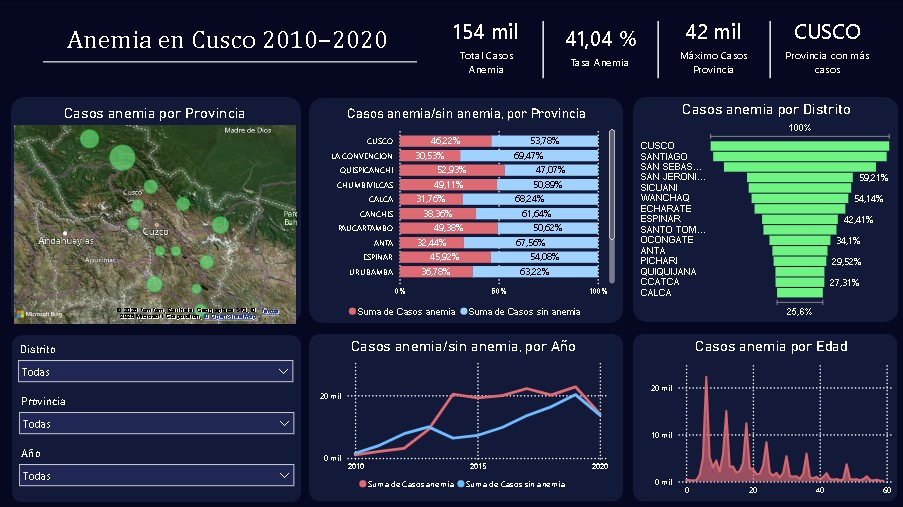

The page's visual inventory and layout, read from the dashboard file:
{"tool":"powerbi","page":{"name":"DASHBOARD ANEMIA","canvas":[1280,720],"ordinal":0},"visuals":[{"type":"shape","box":[18.6,474.3,410,237.1],"z":0},{"type":"shape","box":[898.8,473.8,375,237.5],"z":1000},{"type":"shape","box":[440,473.8,445,237.5],"z":2000},{"type":"shape","box":[898.8,137.5,376.2,318.8],"z":3000},{"type":"shape","box":[17.1,141.2,411.4,318.6],"z":4000},{"type":"shape","box":[440,138.8,445,318.8],"z":5000},{"type":"cardVisual","fields":{"Data":["Medidas.Total Casos Anemia","Medidas.Tasa Anemia","Medidas.Máximo Casos Provincia","Medidas.Provincia con más casos"]},"box":[607.1,0,652.9,130],"z":6000},{"type":"map","title":"Casos anemia por Provincia","fields":{"Category":["Dataset_AnemiaCusco.Pais","Dataset_AnemiaCusco.Departamento","Dataset_AnemiaCusco.Provincia"],"Size":["Sum(Dataset_AnemiaCusco.Casos anemia)"]},"box":[17.1,148.4,411.4,311.4],"z":7000},{"type":"lineChart","title":"Casos anemia/sin anemia, por Año","fields":{"Y":["Sum(Dataset_AnemiaCusco.Casos anemia)"],"Category":["Dataset_AnemiaCusco.Año"],"Y2":["Sum(Dataset_AnemiaCusco.Casos sin anemia)"]},"box":[447.5,486.2,421.2,217.5],"z":8000},{"type":"areaChart","title":"Casos anemia por Edad","fields":{"Category":["Dataset_AnemiaCusco.Edad"],"Y":["Sum(Dataset_AnemiaCusco.Casos anemia)"]},"box":[917.5,478.8,356.2,232.5],"z":9000},{"type":"clusteredColumnChart","title":"Casos anemia/sin anemia, por Provincia","fields":{"Category":["Dataset_AnemiaCusco.Provincia"],"Y":["Sum(Dataset_AnemiaCusco.Casos anemia)","Sum(Dataset_AnemiaCusco.Casos sin anemia)"]},"box":[447.5,148.8,430,311.2],"z":10000},{"type":"funnel","title":"Casos anemia por Distrito","fields":{"Category":["Dataset_AnemiaCusco.Distrito"],"Y":["Sum(Dataset_AnemiaCusco.Casos anemia)"]},"box":[903.8,143.8,367.5,312.5],"z":11000},{"type":"textbox","box":[90.8,28.8,471.7,65],"z":12000},{"type":"shape","box":[62.5,61.4,530,53.3],"z":13000},{"type":"shape","box":[741.4,30,60,81.4],"z":14000},{"type":"shape","box":[904.3,30,60,81.4],"z":15000},{"type":"shape","box":[1062.9,30,60,81.4],"z":16000},{"type":"slicer","fields":{"Values":["Dataset_AnemiaCusco.Distrito"]},"box":[17.5,480,410,73.8],"z":17000},{"type":"slicer","fields":{"Values":["Dataset_AnemiaCusco.Provincia"]},"box":[18.8,553.8,410,73.8],"z":18000},{"type":"slicer","fields":{"Values":["Dataset_AnemiaCusco.Año"]},"box":[18.8,627.5,410,73.8],"z":19000}]}

Visuals, with their boxes in screenshot pixels (x1, y1, x2, y2), scaled from the page's 1280x720 canvas onto the 903x507 screenshot:
shape: left=13, top=334, right=302, bottom=501
shape: left=634, top=334, right=899, bottom=501
shape: left=310, top=334, right=624, bottom=501
shape: left=634, top=97, right=899, bottom=321
shape: left=12, top=99, right=302, bottom=324
shape: left=310, top=98, right=624, bottom=322
cardVisual - Medidas.Total Casos Anemia x Medidas.Tasa Anemia: left=428, top=0, right=889, bottom=92
"Casos anemia por Provincia" map: left=12, top=104, right=302, bottom=324
"Casos anemia/sin anemia, por Año" lineChart: left=316, top=342, right=613, bottom=496
"Casos anemia por Edad" areaChart: left=647, top=337, right=899, bottom=501
"Casos anemia/sin anemia, por Provincia" clusteredColumnChart: left=316, top=105, right=619, bottom=324
"Casos anemia por Distrito" funnel: left=638, top=101, right=897, bottom=321
textbox: left=64, top=20, right=397, bottom=66
shape: left=44, top=43, right=418, bottom=81
shape: left=523, top=21, right=565, bottom=78
shape: left=638, top=21, right=680, bottom=78
shape: left=750, top=21, right=792, bottom=78
slicer - Dataset_AnemiaCusco.Distrito: left=12, top=338, right=302, bottom=390
slicer - Dataset_AnemiaCusco.Provincia: left=13, top=390, right=303, bottom=442
slicer - Dataset_AnemiaCusco.Año: left=13, top=442, right=303, bottom=494
